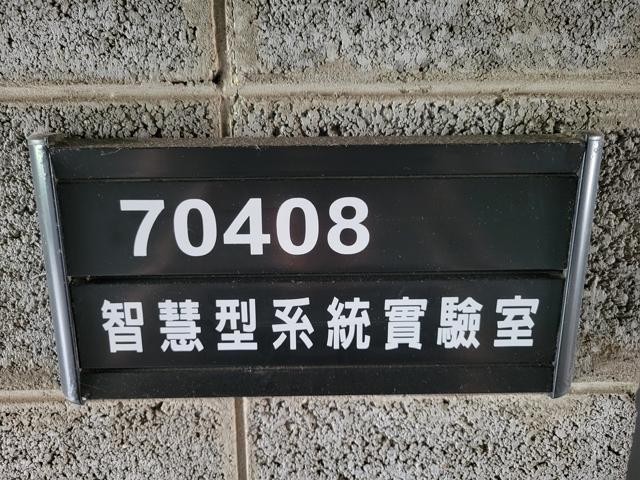doorplate: (18, 124, 610, 409)
